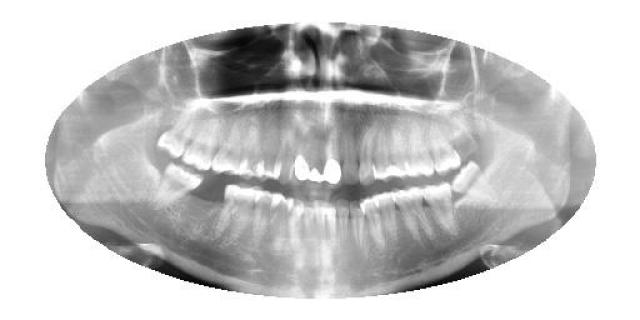Fillings: (292, 126, 310, 182), (309, 125, 325, 185), (324, 132, 341, 188)
Restorations: (451, 160, 510, 209)
